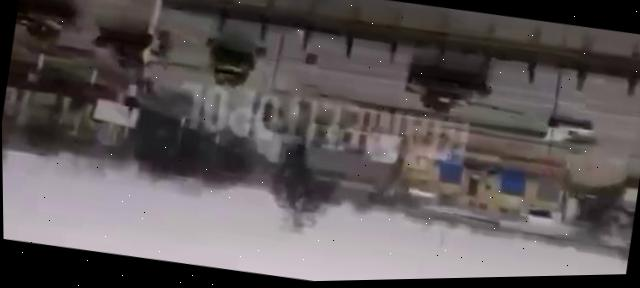car: (544, 116, 595, 147)
tank: (401, 65, 530, 129), (81, 24, 176, 80), (198, 41, 260, 94)
